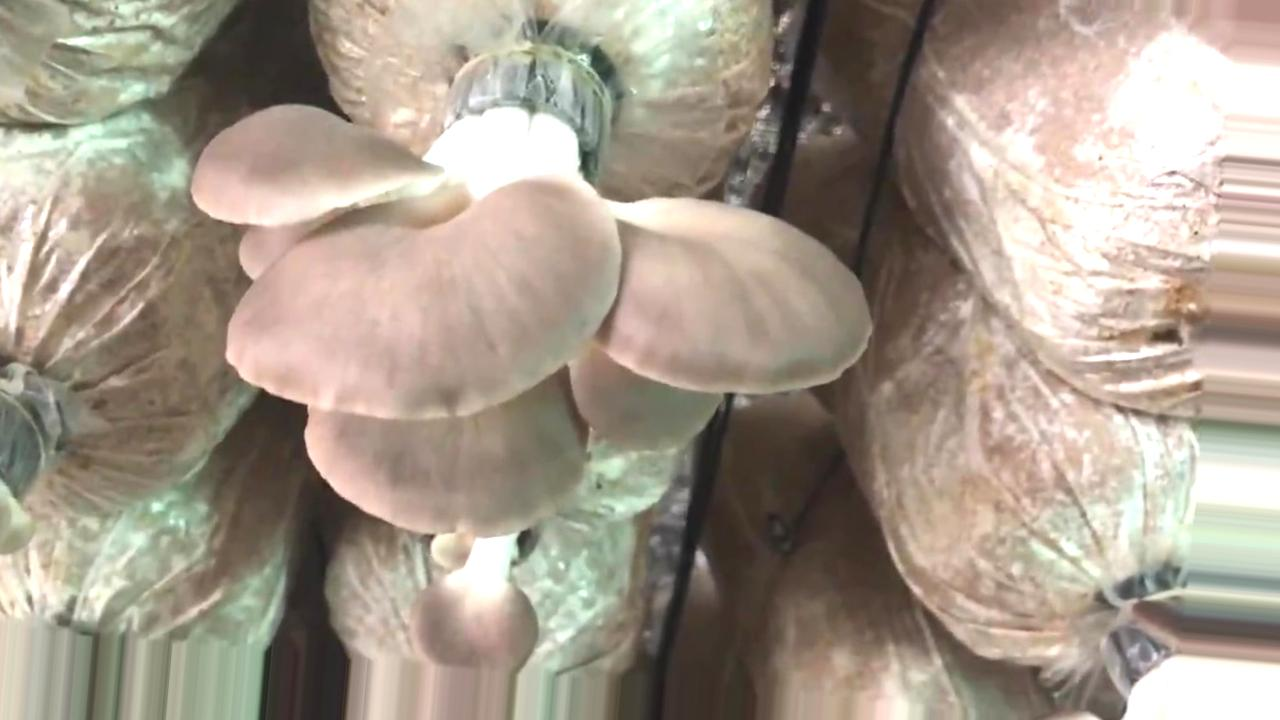nam: (194, 47, 870, 534), (410, 508, 542, 720)
